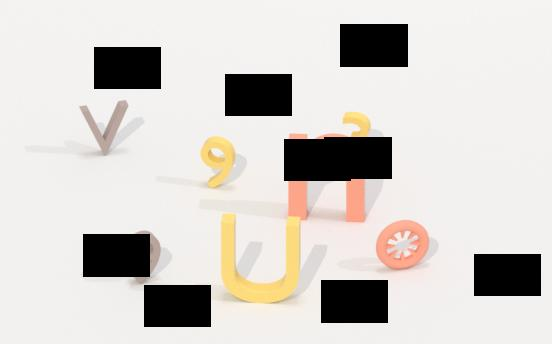3: (337, 109, 377, 161)
9: (197, 135, 239, 190), (123, 229, 165, 284)
n: (282, 131, 376, 225)
tron: (374, 219, 432, 272)
u: (215, 209, 311, 306)
v: (77, 98, 135, 160)
